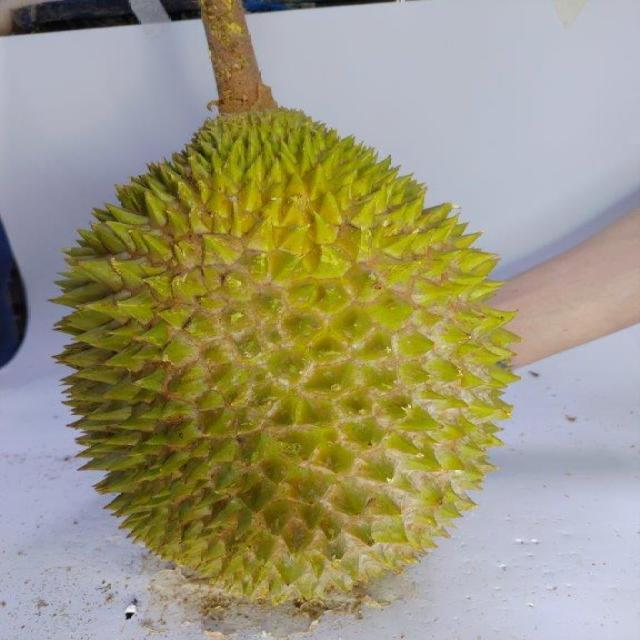immature: (61, 104, 518, 604)
